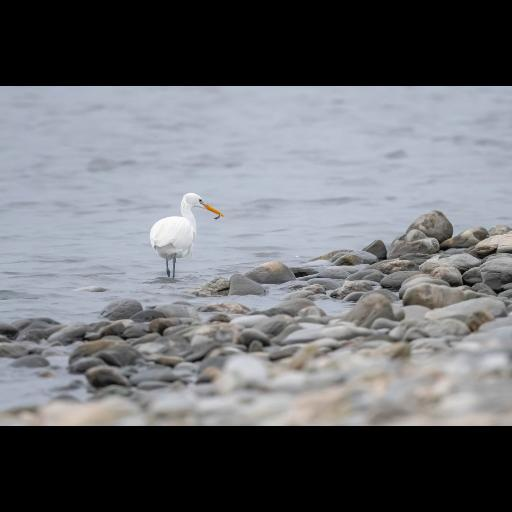chinese_egret: (149, 192, 225, 282)
